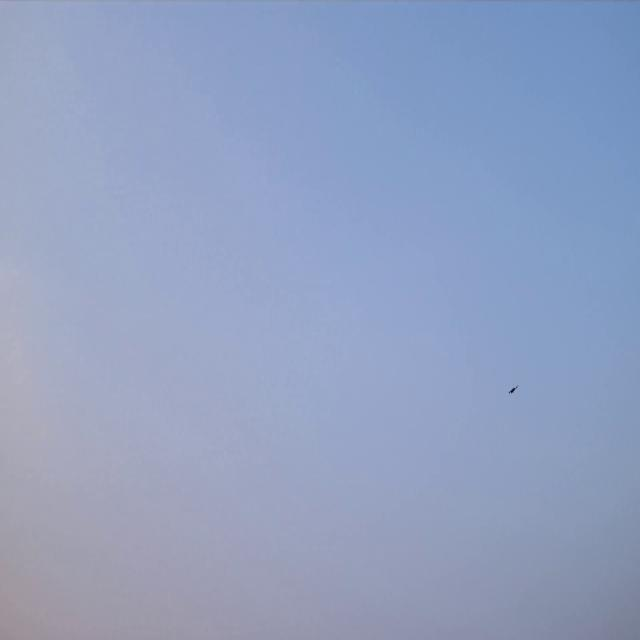UAV: (508, 384, 519, 395)
